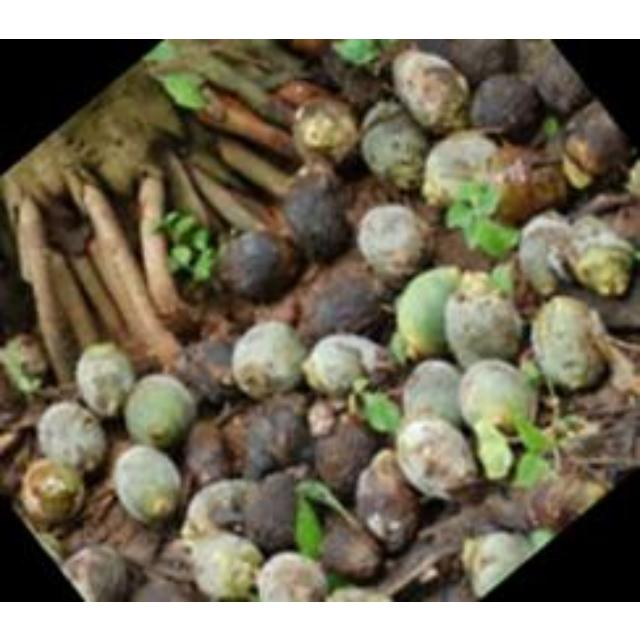damaged: (443, 272, 523, 368), (530, 295, 606, 393), (362, 528, 466, 598), (391, 46, 472, 132), (394, 418, 478, 500), (202, 89, 298, 159), (392, 266, 462, 360), (354, 451, 422, 547), (421, 130, 501, 207), (562, 215, 636, 297), (240, 394, 310, 480), (283, 172, 351, 260), (230, 320, 306, 398), (490, 144, 566, 222), (112, 444, 184, 526), (558, 403, 640, 475), (122, 373, 198, 449), (304, 268, 384, 340), (356, 203, 428, 283), (182, 530, 264, 600), (218, 230, 296, 302), (443, 184, 519, 256), (359, 111, 429, 189), (312, 414, 380, 494), (36, 400, 108, 474), (304, 331, 384, 395), (462, 530, 538, 596), (524, 470, 604, 532), (242, 470, 302, 552), (471, 73, 542, 141), (155, 209, 217, 285), (174, 336, 242, 404), (400, 358, 466, 428), (183, 478, 257, 540), (75, 341, 135, 417), (294, 476, 364, 540), (518, 214, 572, 296), (292, 96, 358, 162), (86, 128, 152, 194), (21, 137, 83, 207), (564, 106, 626, 176), (22, 458, 84, 526), (528, 46, 588, 116), (162, 145, 215, 223), (317, 519, 383, 581), (95, 512, 165, 570), (465, 484, 541, 534), (40, 190, 92, 262), (63, 543, 127, 601), (255, 552, 329, 602), (344, 178, 406, 236), (183, 418, 231, 488), (441, 40, 513, 86), (218, 404, 262, 476), (0, 334, 50, 396), (207, 286, 270, 332), (0, 260, 36, 338), (507, 412, 557, 468), (334, 65, 386, 109), (357, 389, 403, 435), (274, 78, 338, 110), (131, 572, 203, 600), (159, 71, 209, 111), (578, 188, 636, 222), (510, 262, 546, 316), (148, 54, 214, 82), (2, 166, 30, 232), (536, 124, 568, 180), (208, 46, 268, 74), (296, 54, 340, 92), (157, 536, 201, 574), (318, 49, 359, 89), (360, 98, 406, 132), (332, 38, 386, 64), (1, 418, 32, 462), (307, 397, 339, 437), (456, 267, 498, 297), (610, 200, 640, 240), (412, 40, 460, 64), (34, 530, 66, 564), (145, 41, 181, 64), (288, 38, 328, 56)
